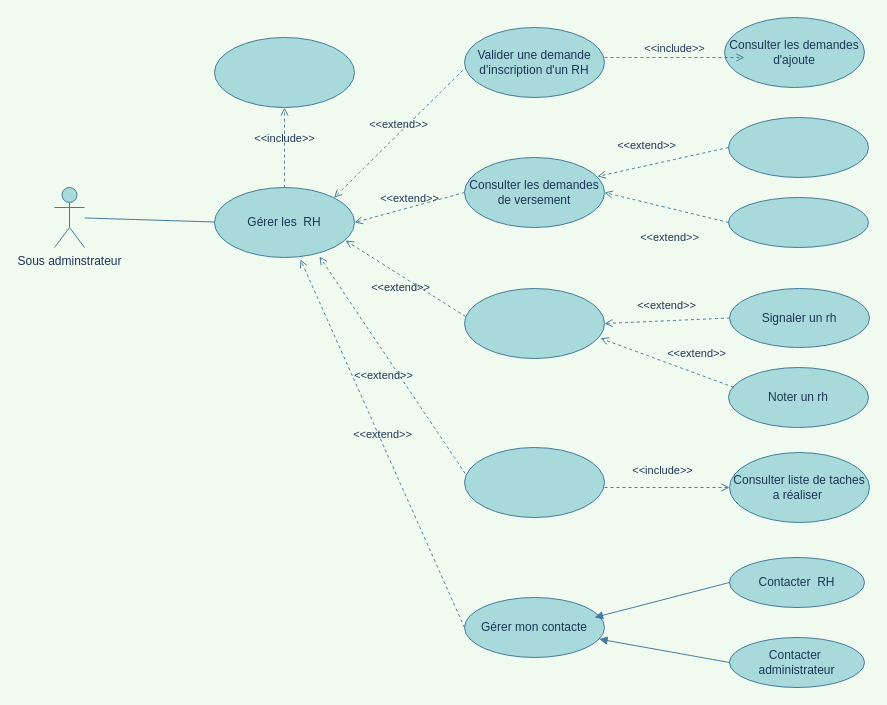
Some shapes in this 887 by 705 pixel diagram are drawn without their labels. Each missing label, with the centre of its shape:
"Accépter une demande de versement" belongs at (x=798, y=147).
"Consulter les activites de chaque RH" belongs at (x=534, y=323).
"Effictuee une tache pour Rh" belongs at (x=534, y=482).
"Refuser un versement" belongs at (x=798, y=222).
"S'authentifier" belongs at (x=284, y=72).
